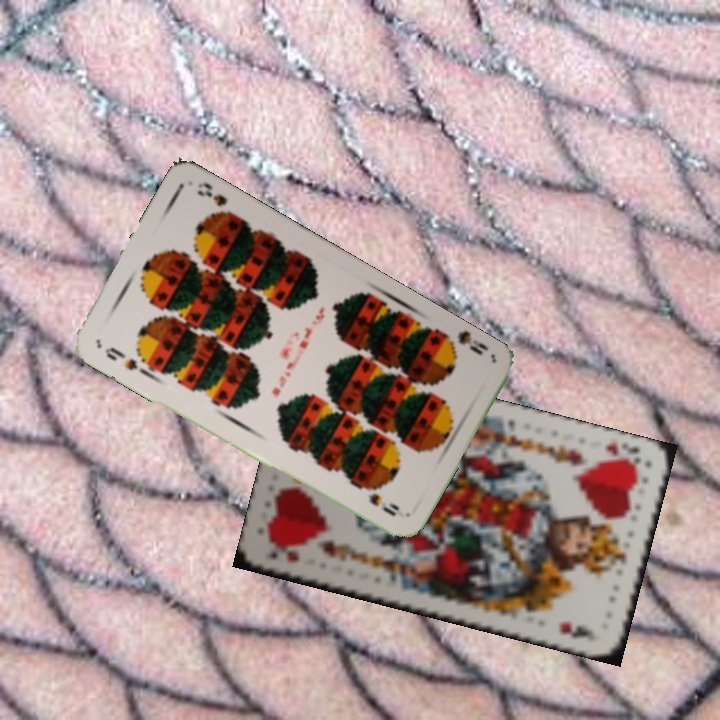HK: (600, 436, 644, 470), (266, 546, 303, 566)
S9: (437, 327, 491, 358), (100, 343, 141, 373)
